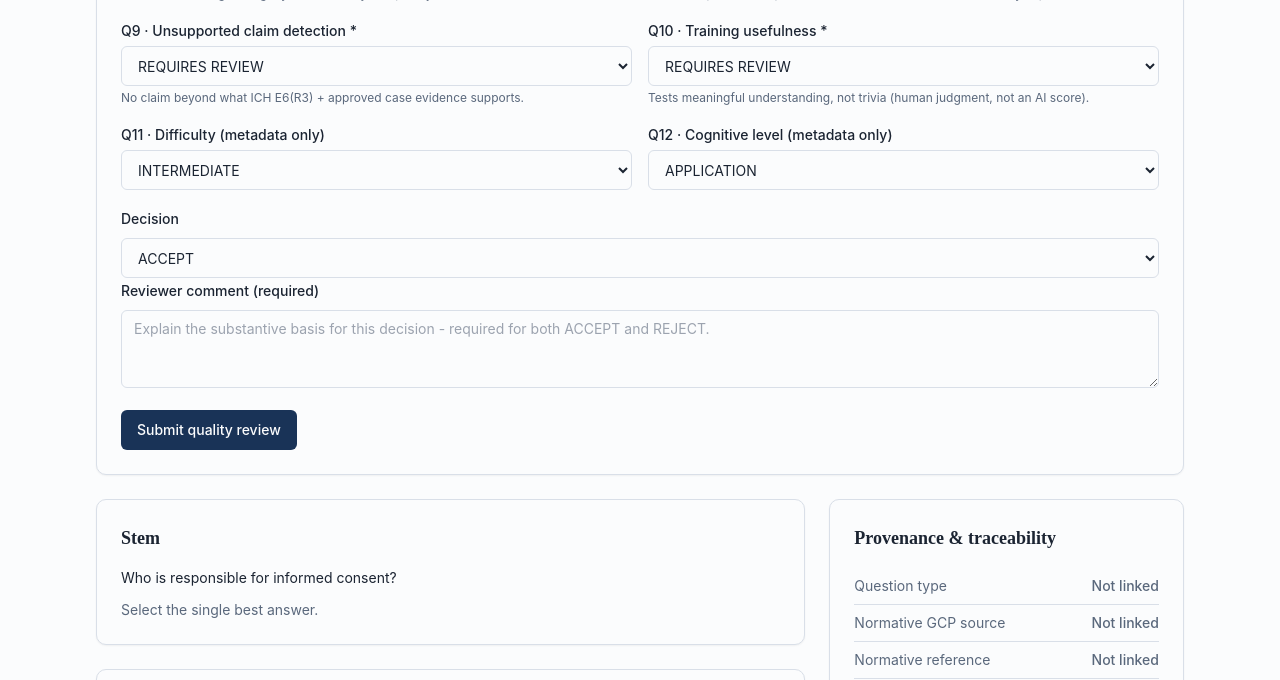
Test: AI question candidate detail page › surfaces the server fail-closed message when the mandatory-dimension gate fails
(page scrolled)
Expected: the button "Submit quality review" is shown, [121,410,297,450]
Replace the text in the text box labelled "Reviewer comment (required)" with "This introduces an unsupported requirement." at (640, 349), box [121,310,1159,388]
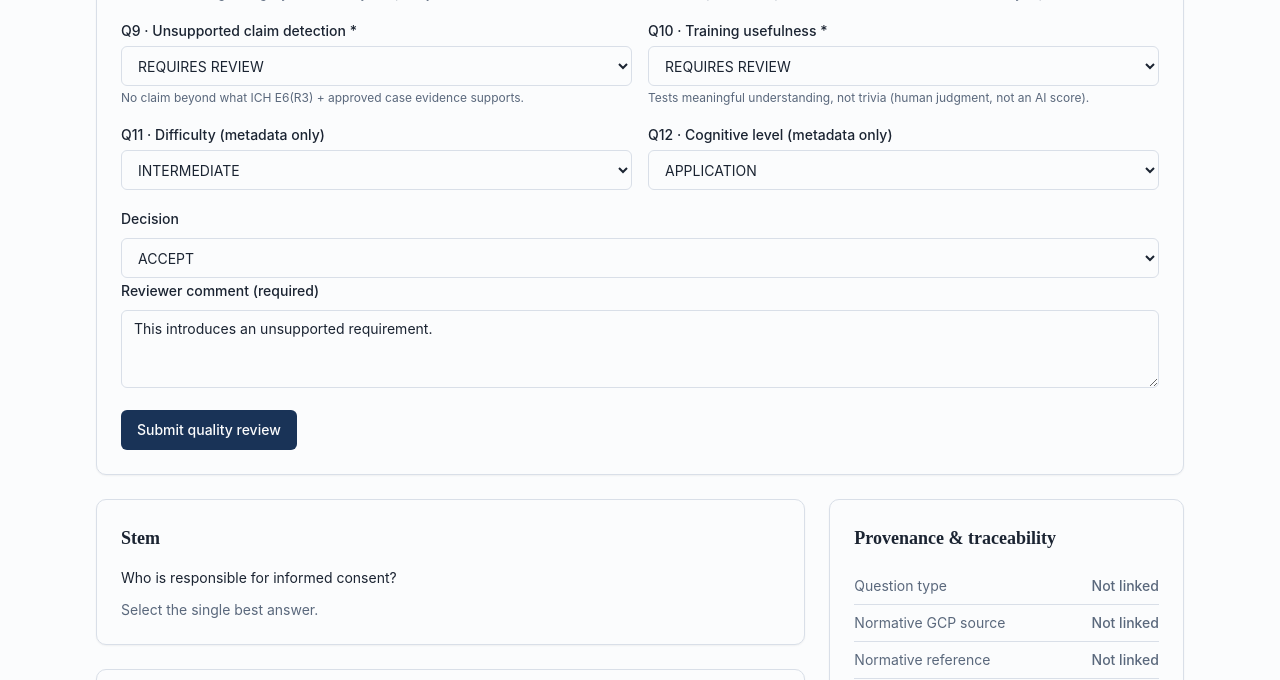
Click the button "Submit quality review" at (209, 430), box [121,410,297,450]
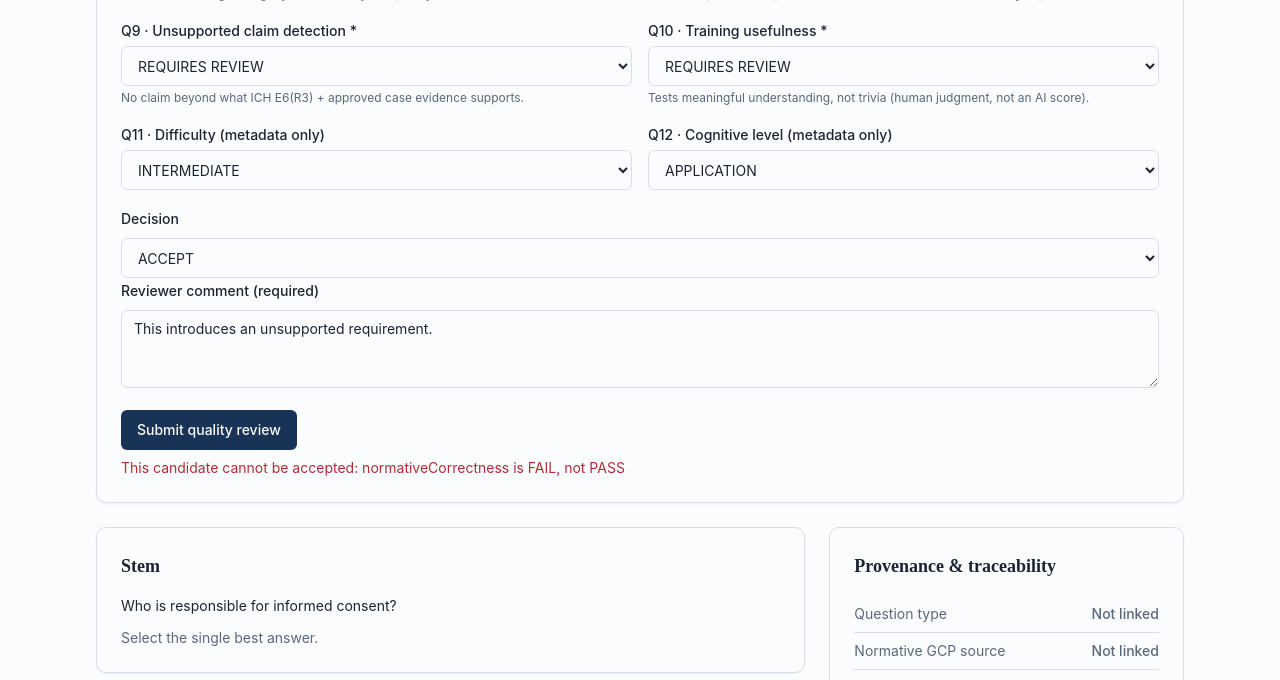
Now the text "normativeCorrectness is FAIL, not PASS" is shown, box [121,459,625,476]
